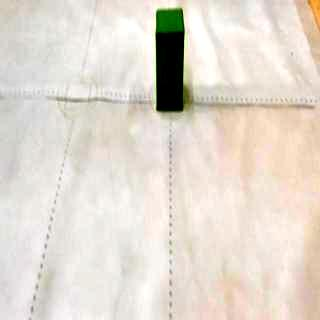greenbox: (156, 10, 183, 110)
